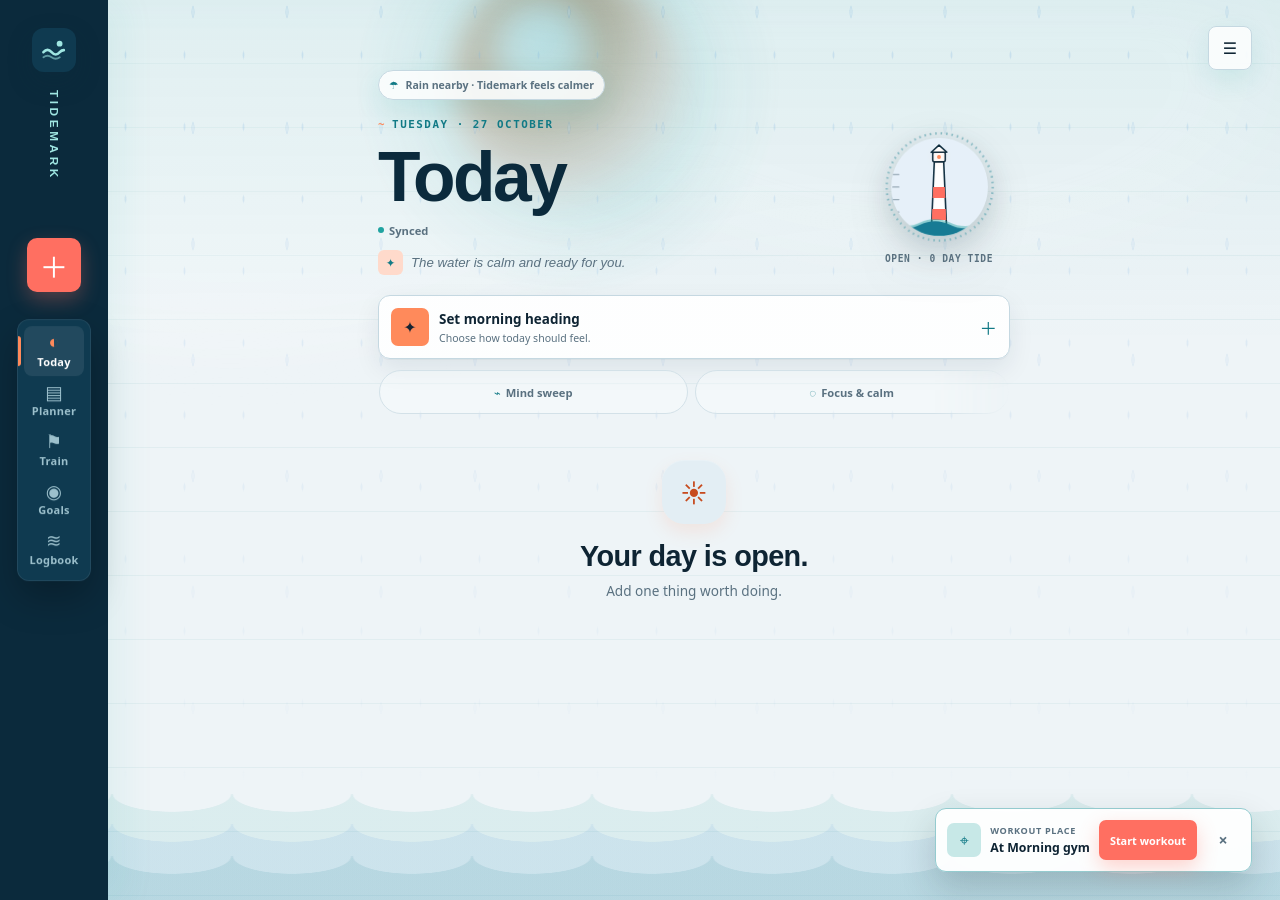
Test: offers a nearby saved gym and uses coarse coordinates for local weather
Expected: the text "At Morning gym" is shown, [990,839,1090,856]
Expected: the text "Rain nearby · Tidemark feels calmer" is shown, [406,78,594,92]
Click the button with aria-label "Start workout at Morning gym". click: x=1148, y=840
box: [1099,820,1197,860]
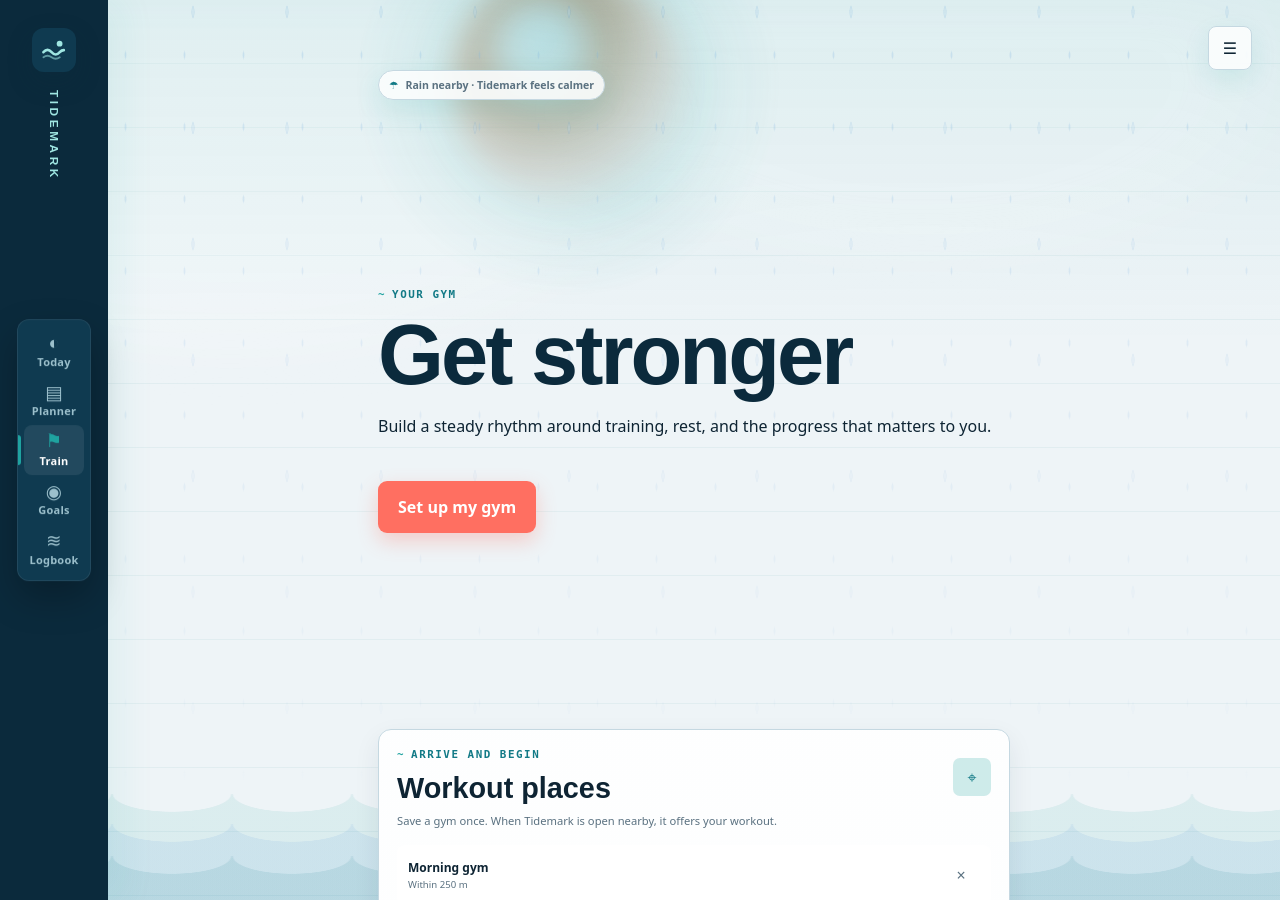
Expected: the heading "Get stronger" is shown, [378,312,851,399]
Expected: the button "Set up my gym" is shown, [378,481,536,533]
